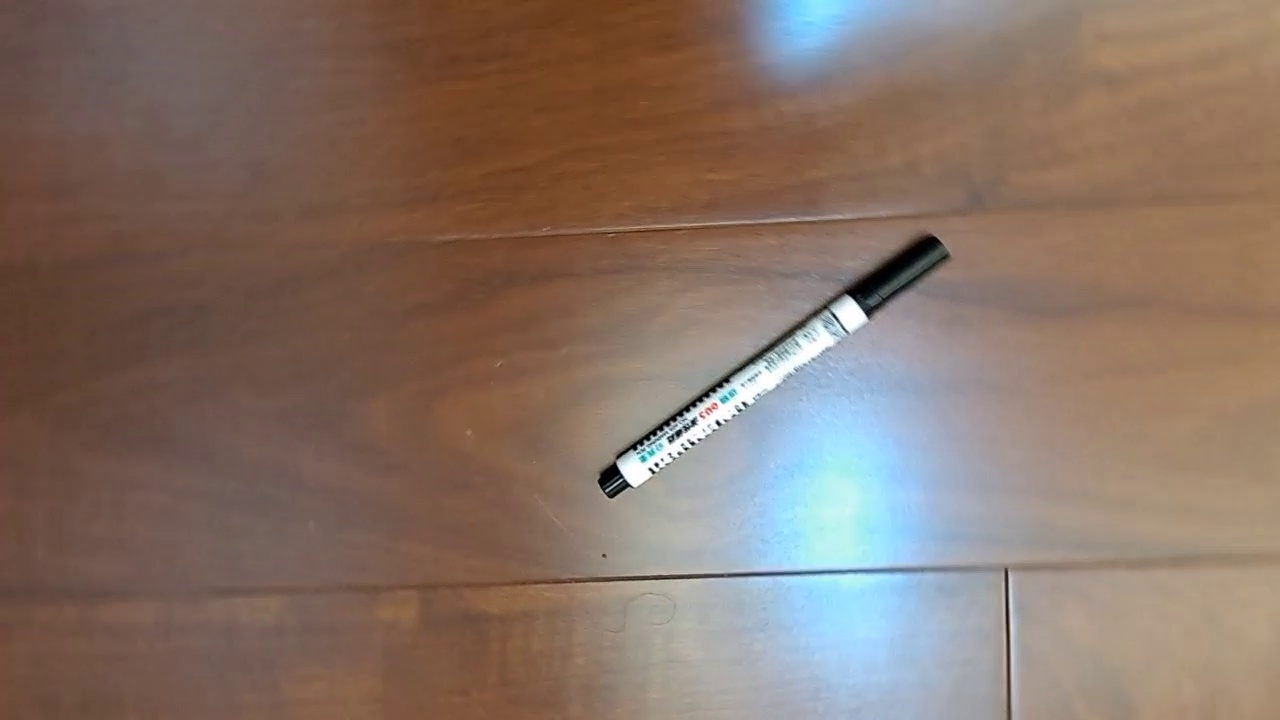pen: (596, 231, 953, 500)
